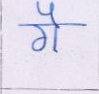ai_matra: (36, 1, 61, 23)
